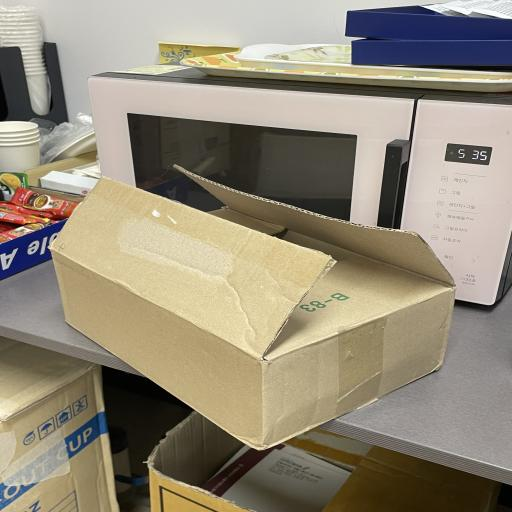box: (48, 164, 458, 451)
opened: (49, 165, 459, 361)
